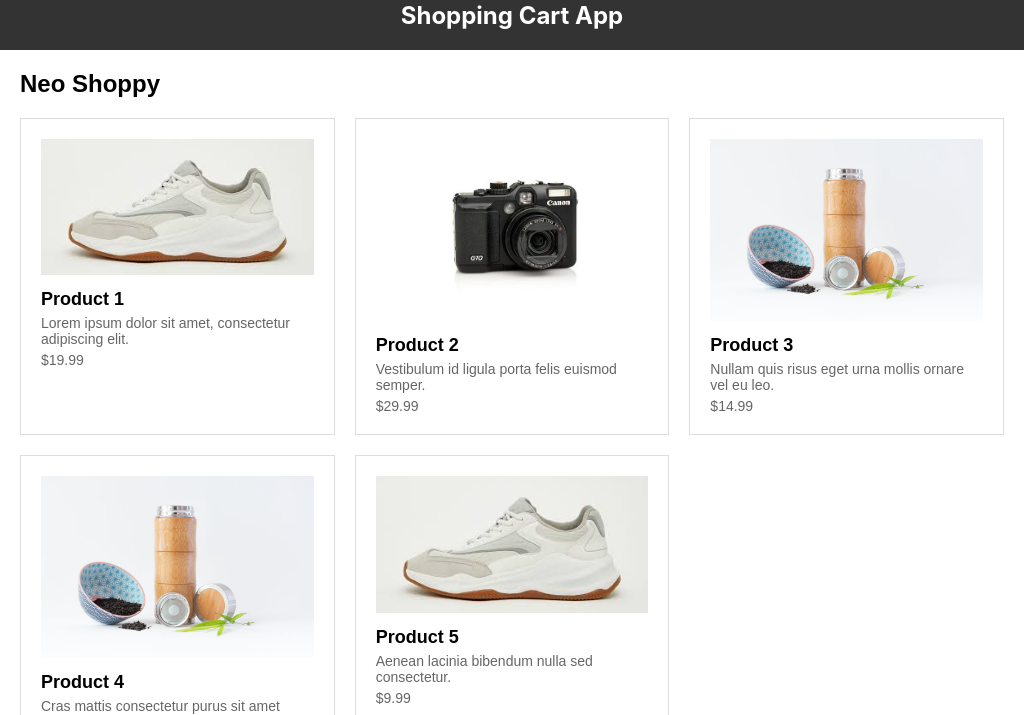
App › adds_a_product_to_the_cart_when_Add_to_Cart_is_clicked
The image size is (1024, 715).
Step 1. Click the heading "Product 1" → (82, 299), box left=41, top=289, right=124, bottom=309
(page scrolled)
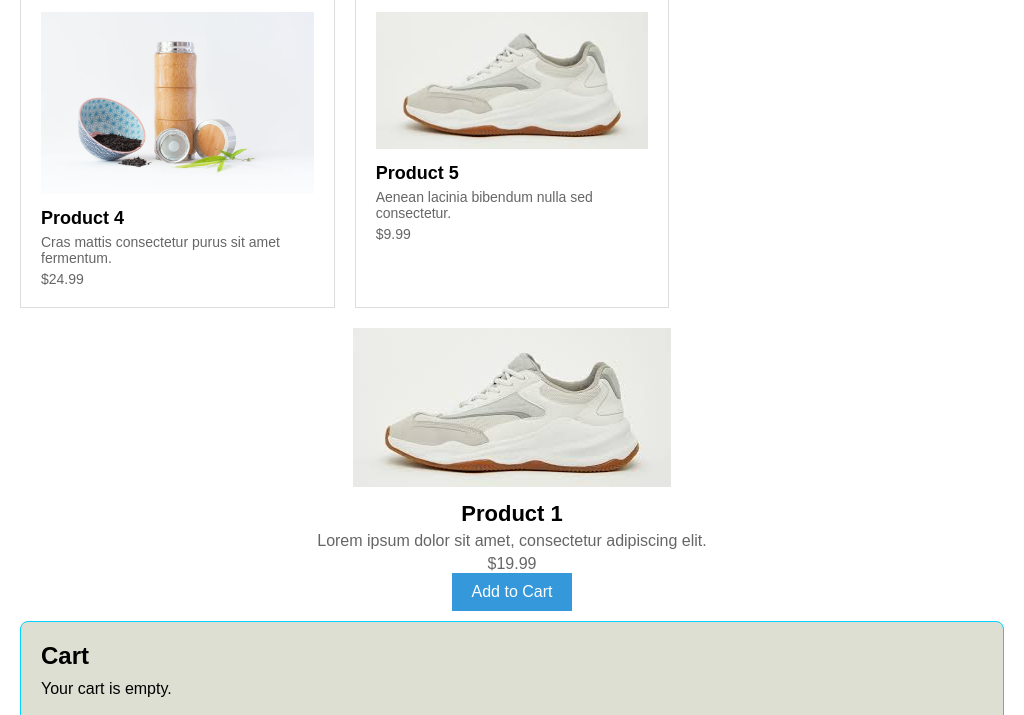
Step 2. Click the button "Add to Cart" → (512, 592), box left=452, top=573, right=572, bottom=611
(page scrolled)
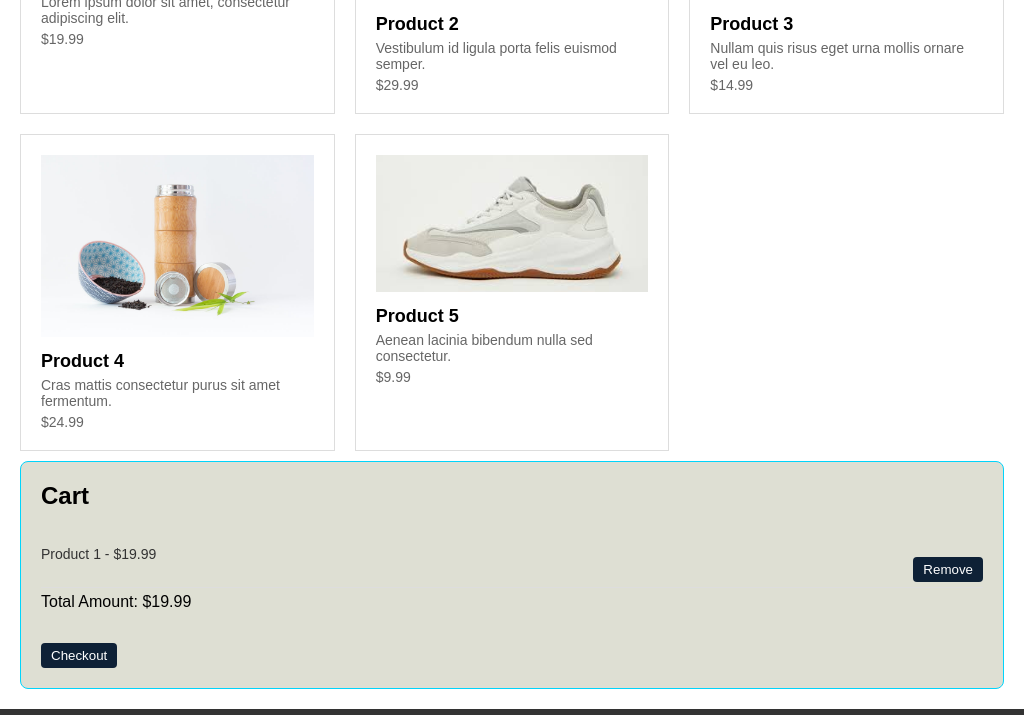
Expected: the list item "Product 1 - $19.99" is shown, left=41, top=520, right=983, bottom=588
